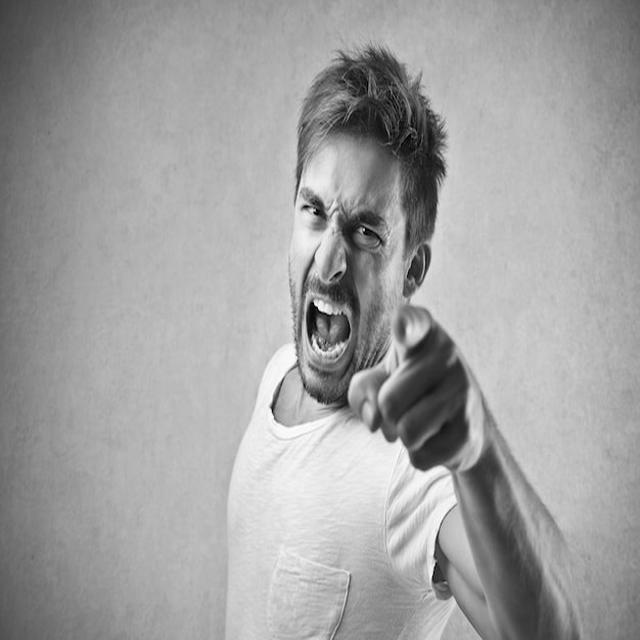Angry: (288, 132, 407, 404)
